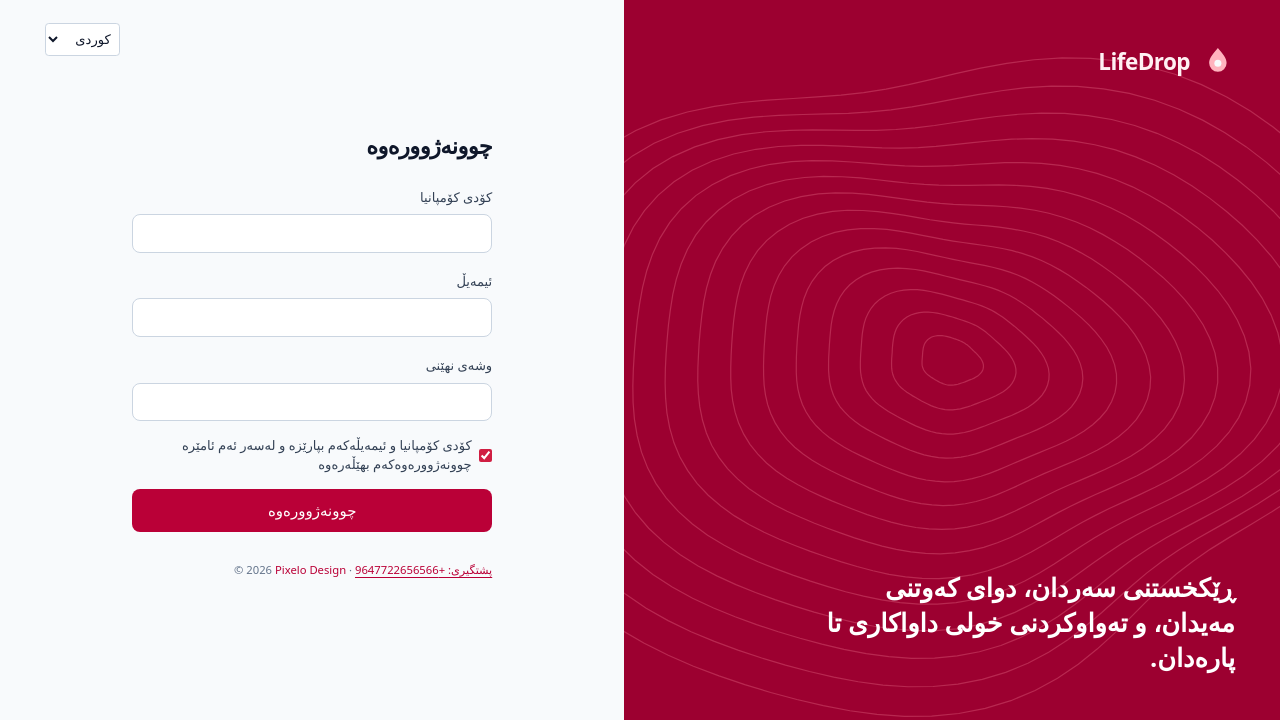
Test case: texts (plan step 1.21) › opens in Sorani Kurdish, right to left, and remembers another choice
Expected: the button "چوونەژوورەوە" is shown, [132,489,492,532]
Select "English" in the dropdown named "زمان" at (82, 39), box [45,22,120,56]
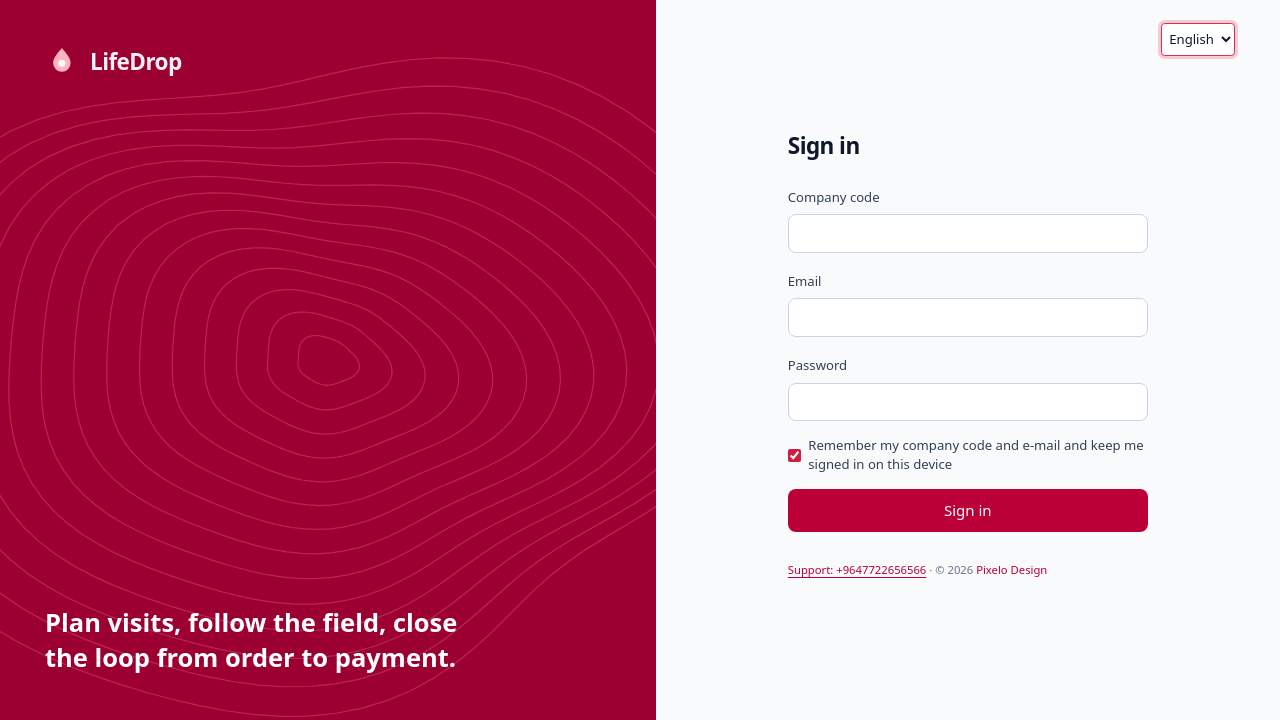
Expected: the button "Sign in" is shown, [788,489,1148,532]
Expected: the text "Company code" is shown, [788,188,880,206]
